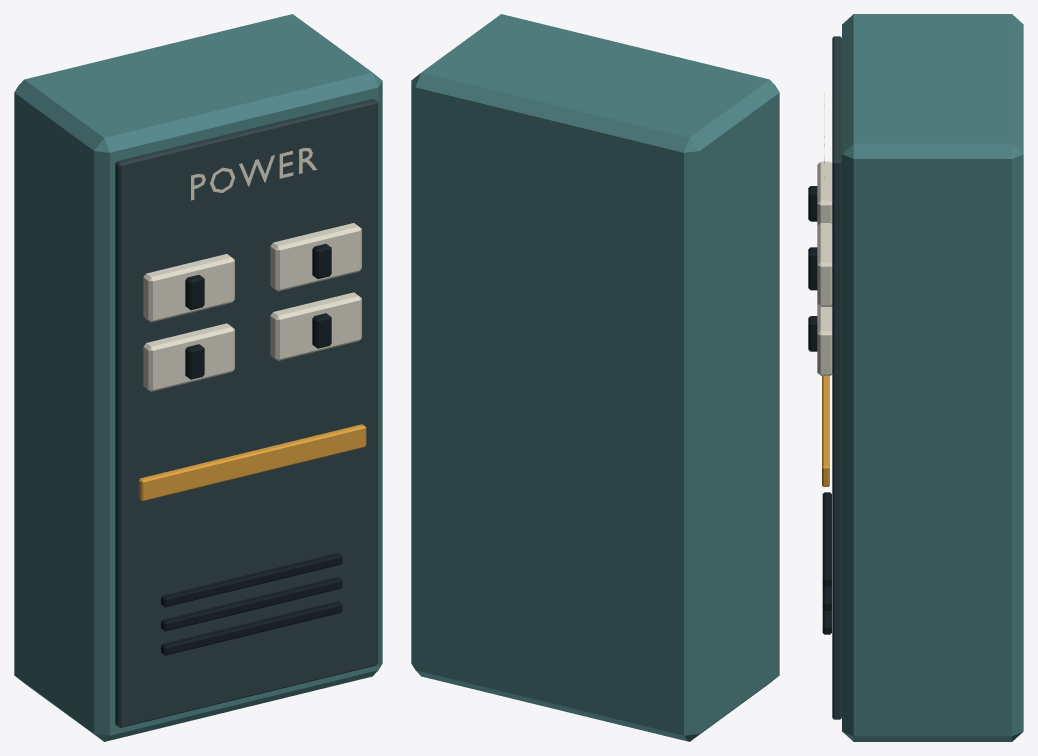
Rendered from electrical-cabinet.glb.
3 views of the same model, side by side, from view 1: azimuth 30°, elevation 25°; view 2: azimuth 150°, elevation 25°; view 3: azimuth 270°, elevation 25° (orthographic).
Visible parts, largest first — view 1: electrical-cabinet__electrical-cabinet__steel, electrical-cabinet__electrical-cabinet__petrol, electrical-cabinet__electrical-cabinet__ivory, electrical-cabinet__electrical-cabinet__rubber, electrical-cabinet__electrical-cabinet__amber; view 2: electrical-cabinet__electrical-cabinet__petrol; view 3: electrical-cabinet__electrical-cabinet__petrol, electrical-cabinet__electrical-cabinet__steel, electrical-cabinet__electrical-cabinet__ivory, electrical-cabinet__electrical-cabinet__rubber, electrical-cabinet__electrical-cabinet__amber.
Boxes of the visible parts, x1,y1,x2,y2 form: electrical-cabinet__electrical-cabinet__steel: (115, 98, 378, 727); electrical-cabinet__electrical-cabinet__petrol: (14, 14, 382, 741); electrical-cabinet__electrical-cabinet__ivory: (143, 148, 361, 391); electrical-cabinet__electrical-cabinet__rubber: (161, 244, 342, 655); electrical-cabinet__electrical-cabinet__amber: (138, 424, 366, 501); electrical-cabinet__electrical-cabinet__petrol: (411, 14, 779, 741); electrical-cabinet__electrical-cabinet__petrol: (842, 14, 1023, 741); electrical-cabinet__electrical-cabinet__steel: (832, 36, 841, 719); electrical-cabinet__electrical-cabinet__ivory: (817, 93, 832, 375); electrical-cabinet__electrical-cabinet__rubber: (808, 186, 831, 634); electrical-cabinet__electrical-cabinet__amber: (822, 376, 829, 486).
Bounding box in the file's own units: 1 × 2 × 0.6525.
